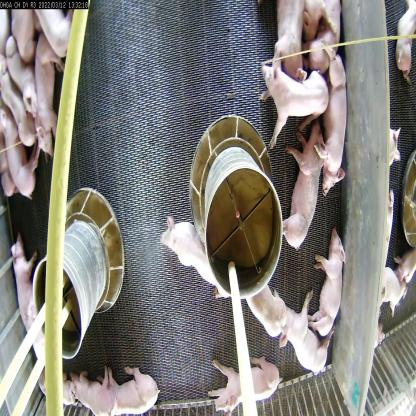Pig: (260, 53, 330, 145), (316, 44, 354, 200), (285, 125, 324, 259), (277, 288, 331, 384), (164, 218, 226, 299), (205, 359, 286, 415), (1, 109, 45, 204), (32, 32, 63, 156), (7, 226, 39, 339), (104, 362, 171, 415), (312, 229, 342, 343), (64, 353, 116, 416), (272, 0, 306, 80), (247, 272, 288, 338)
